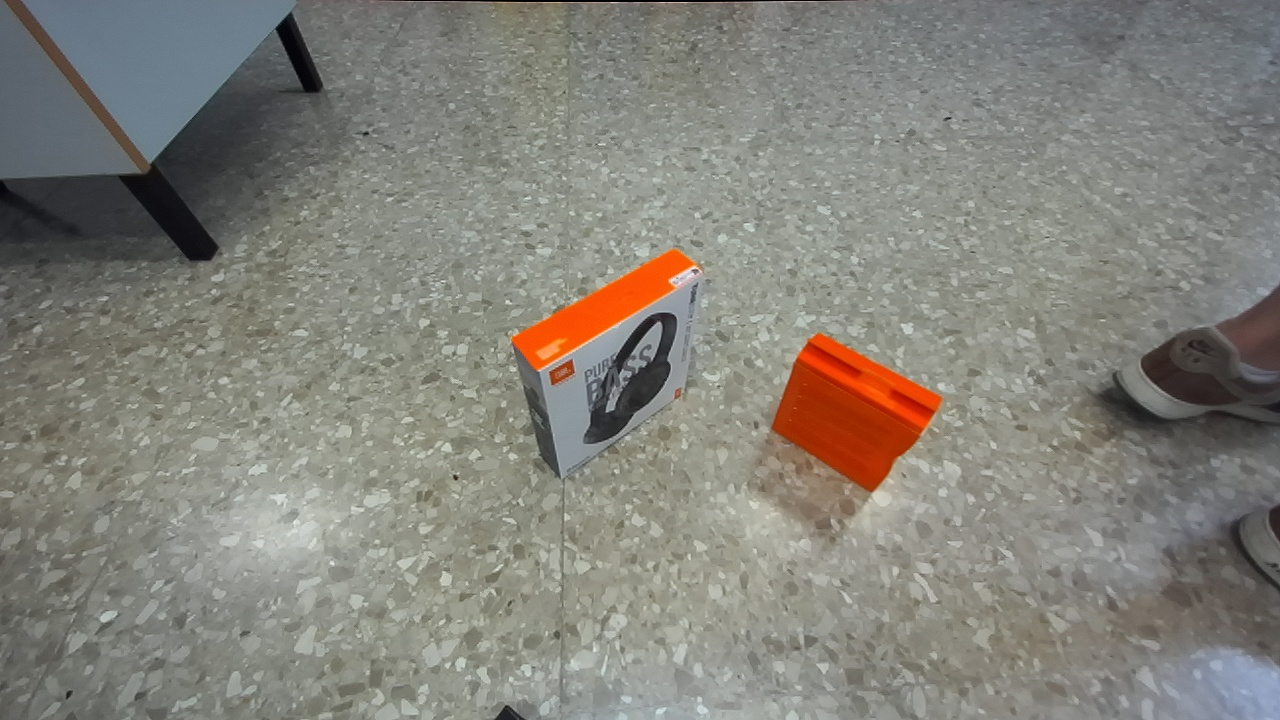caja_chasis: (512, 250, 702, 477)
caja_manguera: (773, 334, 940, 490)
